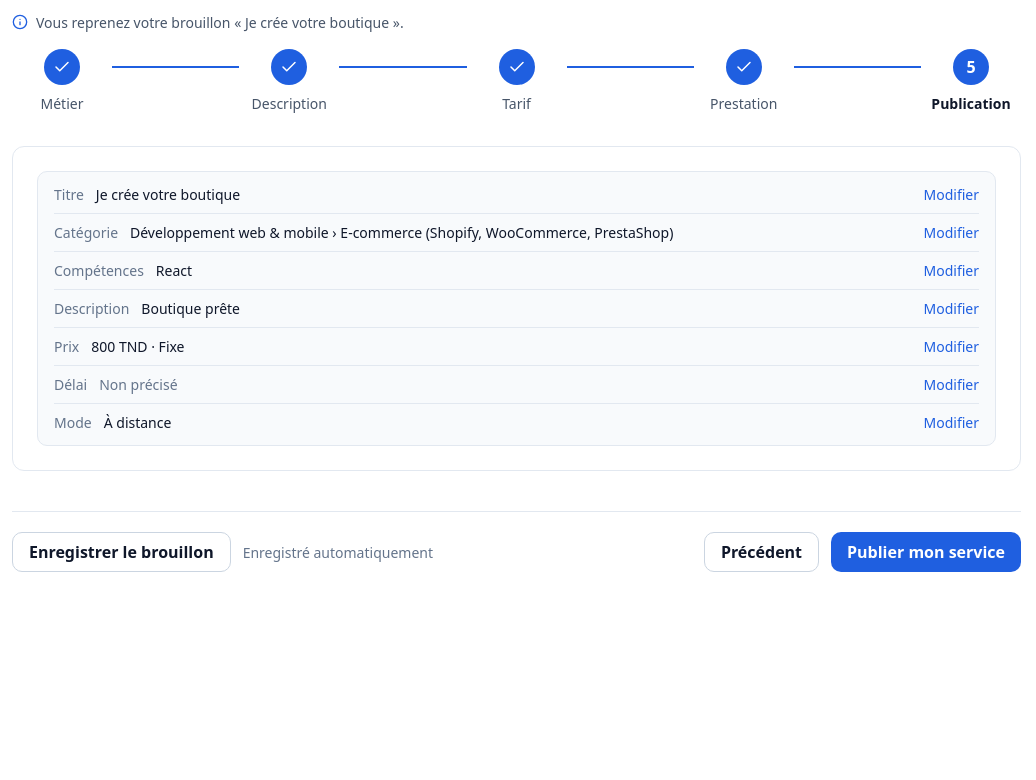
H6 wizard › step 5 « Publication » (PR-4) › « Modifier » opens its step (Description → step 2)
Click the button with aria-label "Modifier — Description": (951, 308) [924,298,979,319]
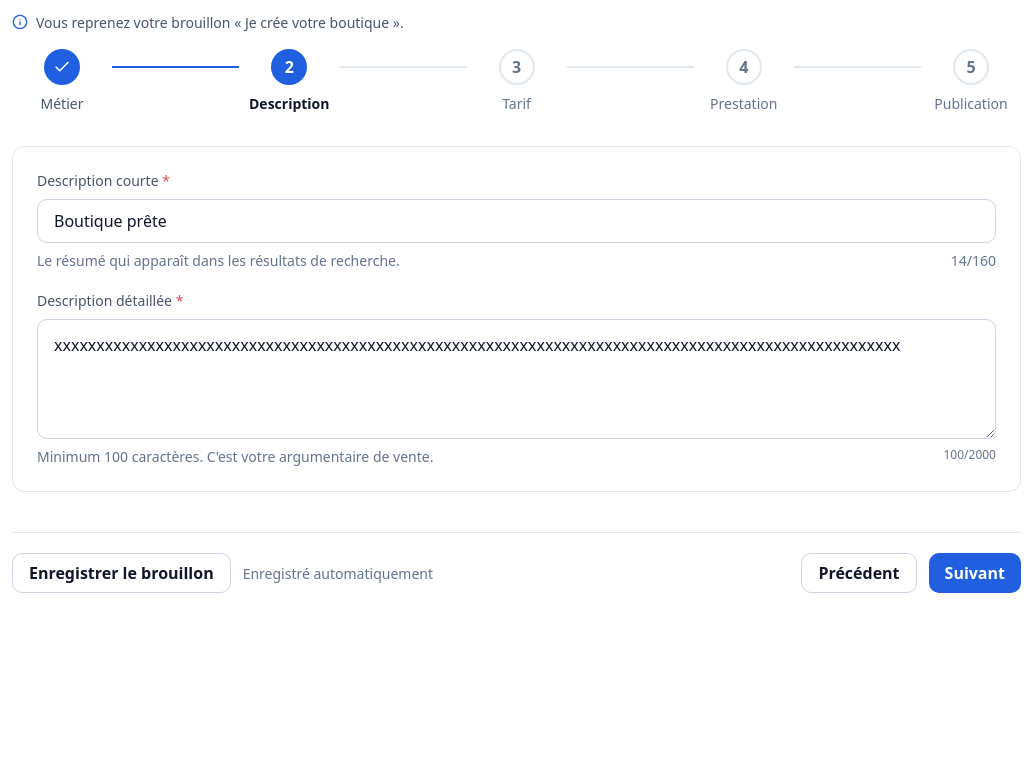
Expected: the button "Suivant" is enabled, [929,553,1021,593]
Now the field labelled "Description courte *" holds "Boutique prête", box [54,209,979,233]
